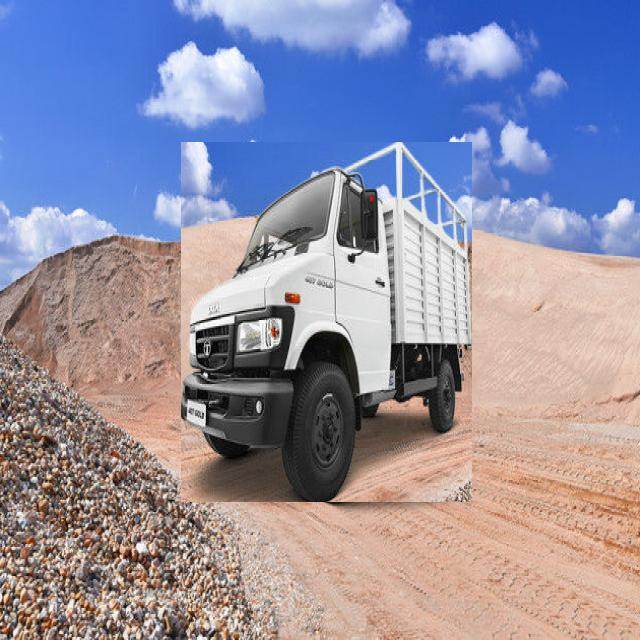truck: (181, 143, 471, 502)
